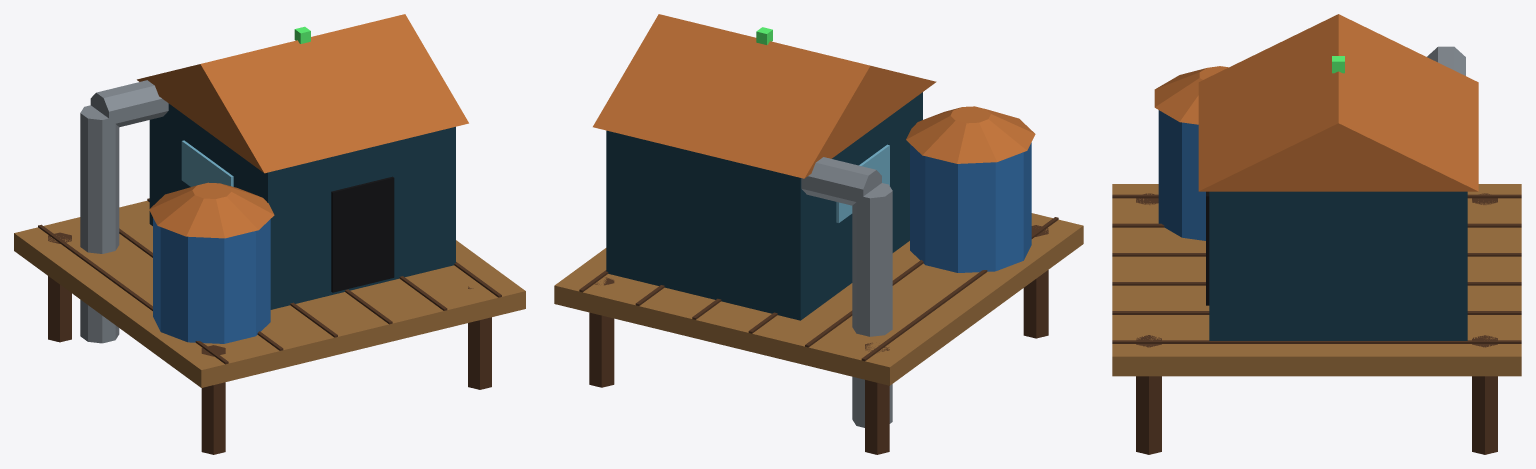
File: water_extractor.obj
3 views of the same model, side by side, from view 1: azimuth 30°, elevation 25°; view 2: azimuth 150°, elevation 25°; view 3: azimuth 270°, elevation 25° (orthographic). The views are drawn at different scales.
Visible parts, largest first — view 1: House, Pier, Tank, Intake; view 2: House, Pier, Tank, Intake; view 3: House, Pier, Tank, Intake.
Part boxes in pixels (bbox=[...]): House: bbox=[137, 14, 468, 309]; Pier: bbox=[14, 198, 525, 454]; Tank: bbox=[149, 182, 274, 343]; Intake: bbox=[80, 80, 168, 343]; House: bbox=[593, 14, 936, 320]; Pier: bbox=[554, 213, 1083, 454]; Tank: bbox=[906, 106, 1035, 272]; Intake: bbox=[801, 157, 892, 427]; House: bbox=[1198, 14, 1478, 340]; Pier: bbox=[1112, 184, 1521, 454]; Tank: bbox=[1154, 66, 1228, 240]; Intake: bbox=[1427, 46, 1465, 75].
Bounding box in the file's own units: 1.9 × 1.75 × 1.9.
